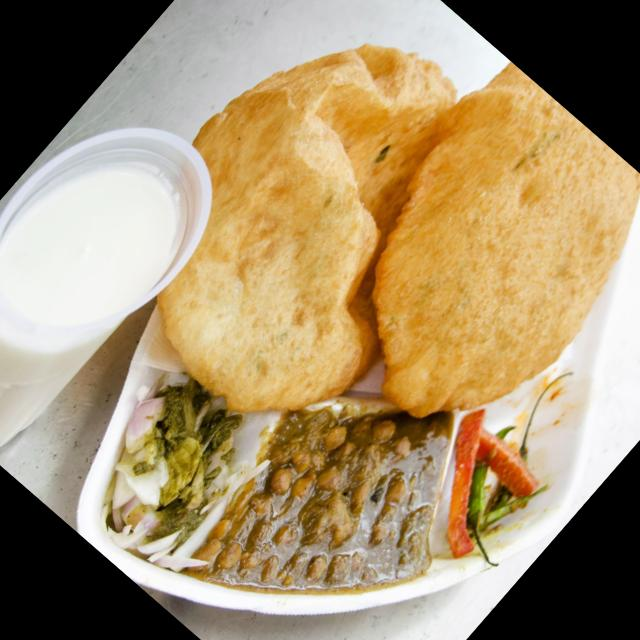Bhatura: (74, 0, 549, 461), (280, 51, 640, 464)
